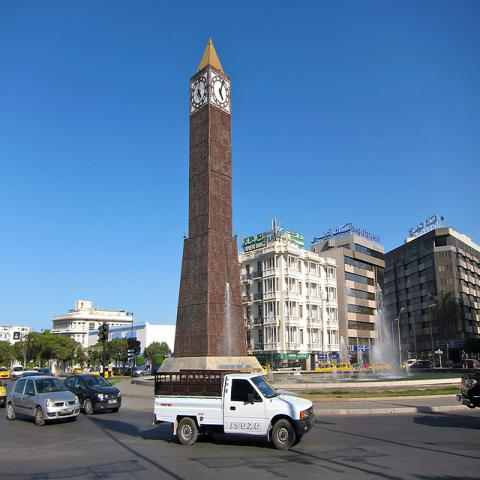car: (148, 361, 315, 454), (5, 374, 78, 428), (63, 374, 121, 415), (456, 371, 479, 409), (366, 361, 392, 371), (452, 359, 480, 368), (408, 360, 434, 368), (0, 380, 7, 409), (334, 362, 352, 370), (11, 364, 23, 374), (0, 367, 10, 379), (315, 364, 334, 370), (363, 363, 370, 370)
truck: (151, 371, 314, 453), (456, 372, 479, 409), (133, 364, 152, 377), (407, 359, 417, 366)
